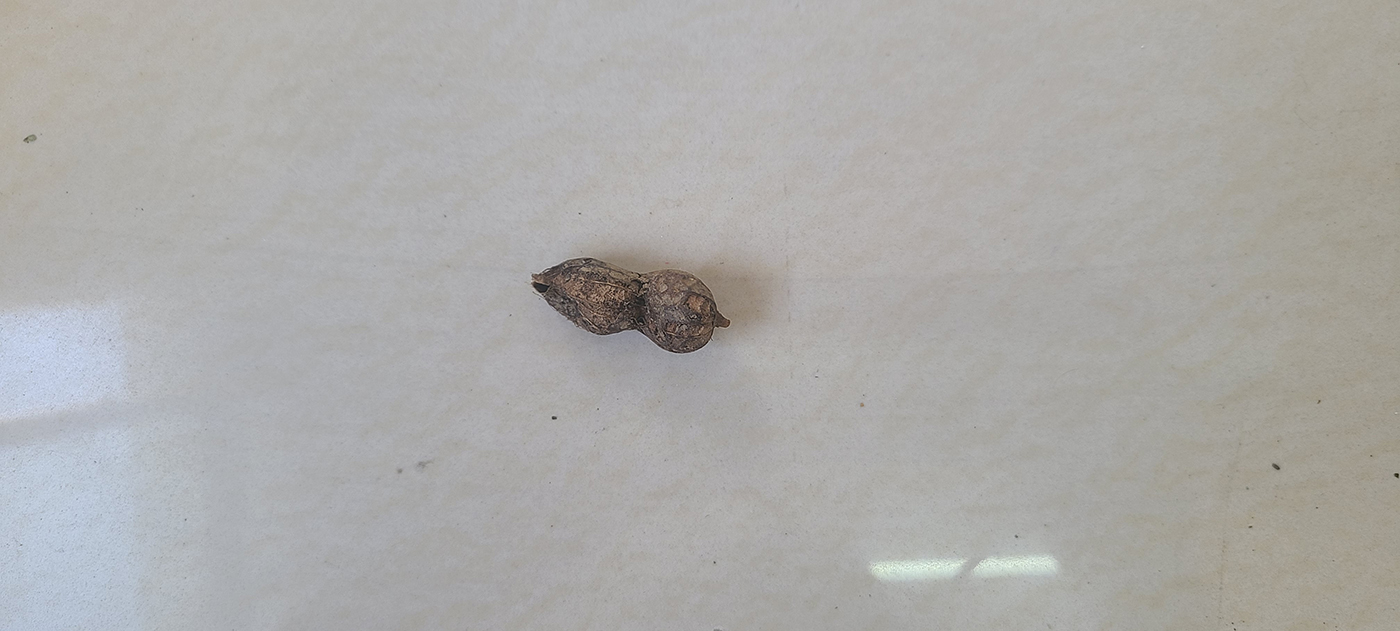l: (532, 258, 729, 354)
